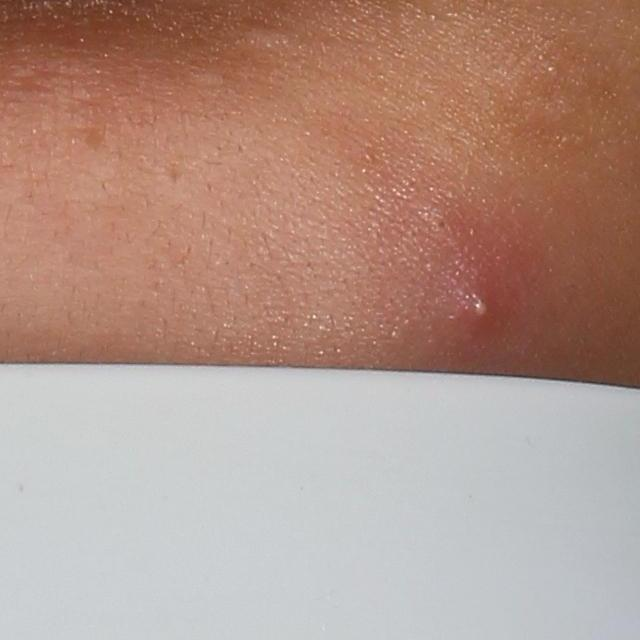pustule: (460, 286, 502, 330)
